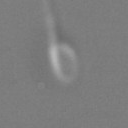normal: (39, 1, 63, 44)
